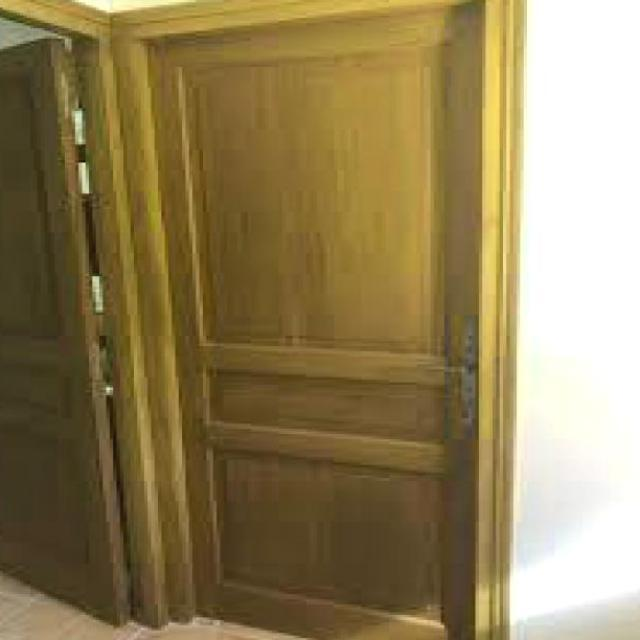door: (134, 1, 490, 640)
